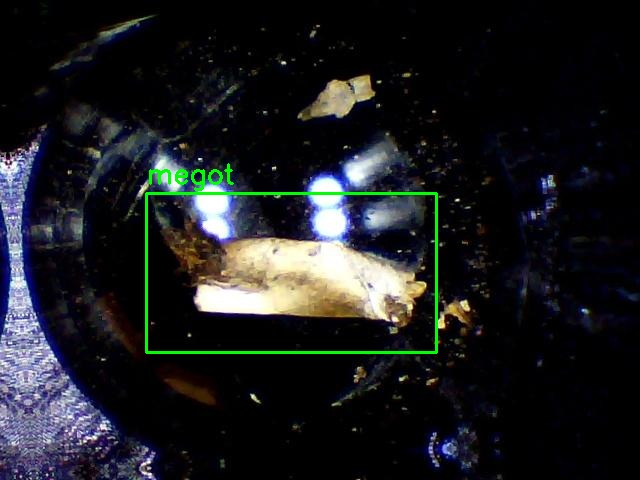megot: (146, 193, 436, 352)
